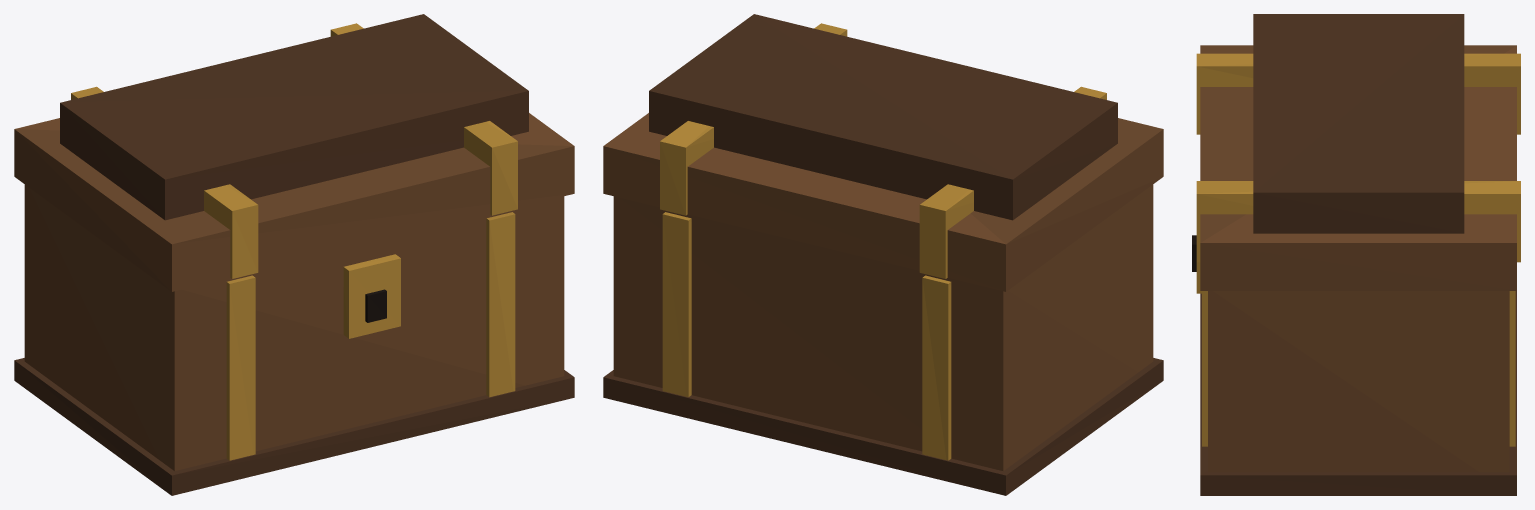
File: ZB_obje_define_sandigi.glb
3 views of the same model, side by side, from view 1: azimuth 30°, elevation 25°; view 2: azimuth 150°, elevation 25°; view 3: azimuth 270°, elevation 25° (orthographic).
Parts seen in each view (by area): view 1: ZB_obje_define_sandigi, kapak; view 2: ZB_obje_define_sandigi, kapak; view 3: kapak, ZB_obje_define_sandigi.
Part boxes in pixels (x1=…): ZB_obje_define_sandigi: x1=14, y1=184, x2=574, y2=495; kapak: x1=14, y1=14, x2=574, y2=291; ZB_obje_define_sandigi: x1=603, y1=184, x2=1163, y2=495; kapak: x1=603, y1=14, x2=1163, y2=291; kapak: x1=1196, y1=14, x2=1520, y2=290; ZB_obje_define_sandigi: x1=1192, y1=235, x2=1516, y2=495.
Size of the model in its own units: 0.62 by 0.43 by 0.436.
